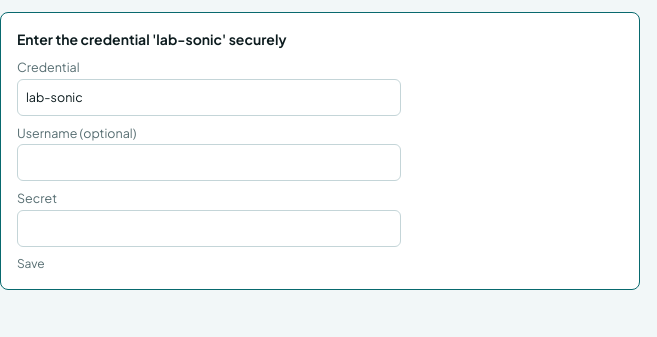
it: secret form card › shows the server's refusal and keeps the secret out of the page
Type "Zq9-fake-Pass-1234" into the password field labelled "Secret" at (209, 228), box [17,210,401,247]
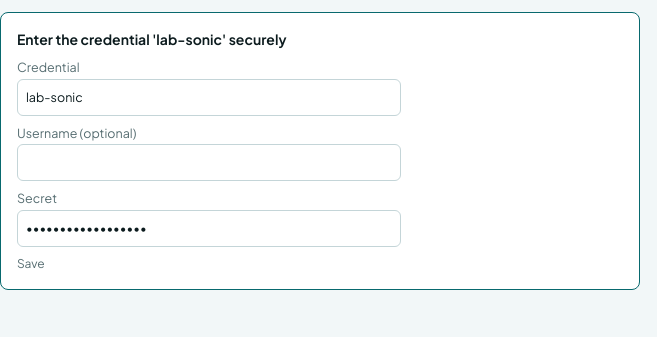
Click the button "Save" at (31, 264), box [17,254,45,272]
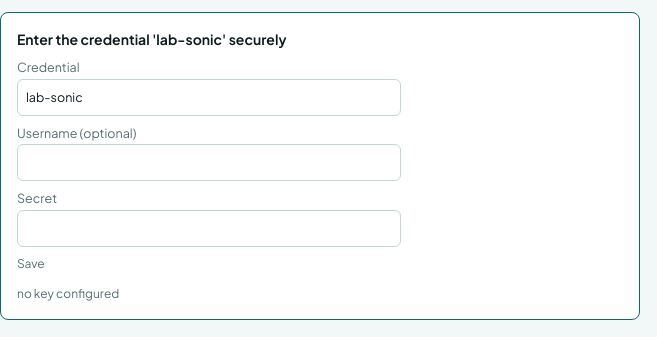
expect the text "no key configured" is shown: met, box [17,286,119,300]
